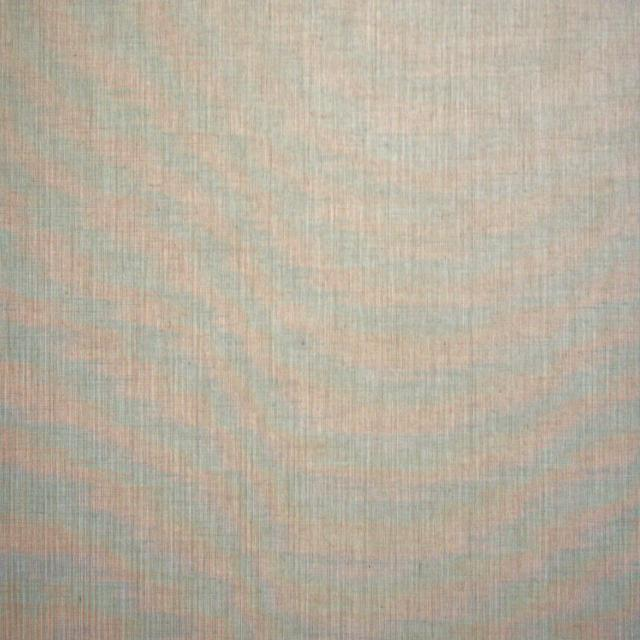dirty: (301, 339, 304, 348)
